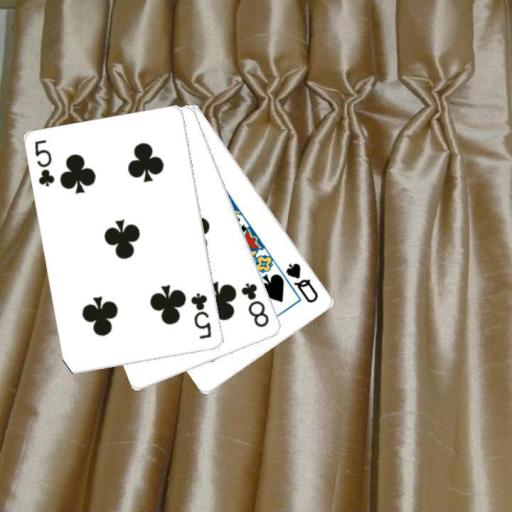5C: (31, 137, 56, 189), (188, 290, 213, 341)
8C: (238, 280, 271, 330)
QS: (283, 260, 320, 305)
